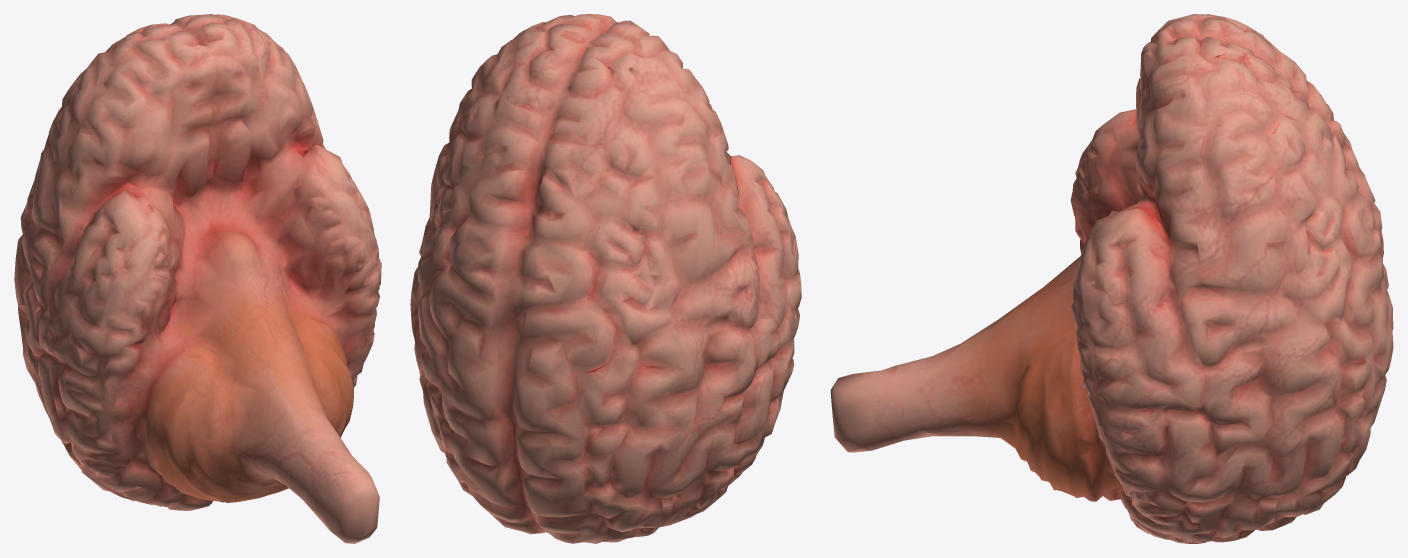
The model's file is Brain.glb.
The picture shows the model from 3 angles, left to right: view 1: azimuth 30°, elevation 25°; view 2: azimuth 150°, elevation 25°; view 3: azimuth 270°, elevation 25°; orthographic projection. The views are drawn at different scales.
Parts seen in each view (by area): view 1: Brain; view 2: Brain; view 3: Brain.
Boxes of the visible parts, left/top/right/bottom form: Brain: left=14, top=14, right=381, bottom=543; Brain: left=410, top=14, right=801, bottom=543; Brain: left=830, top=14, right=1393, bottom=543.
Size of the model in its own units: 2.36 by 3.44 by 3.53.
1 material, 1 textured.
